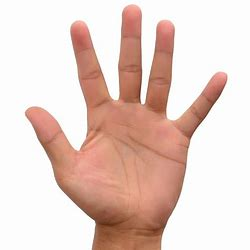palm: (24, 4, 228, 230)
